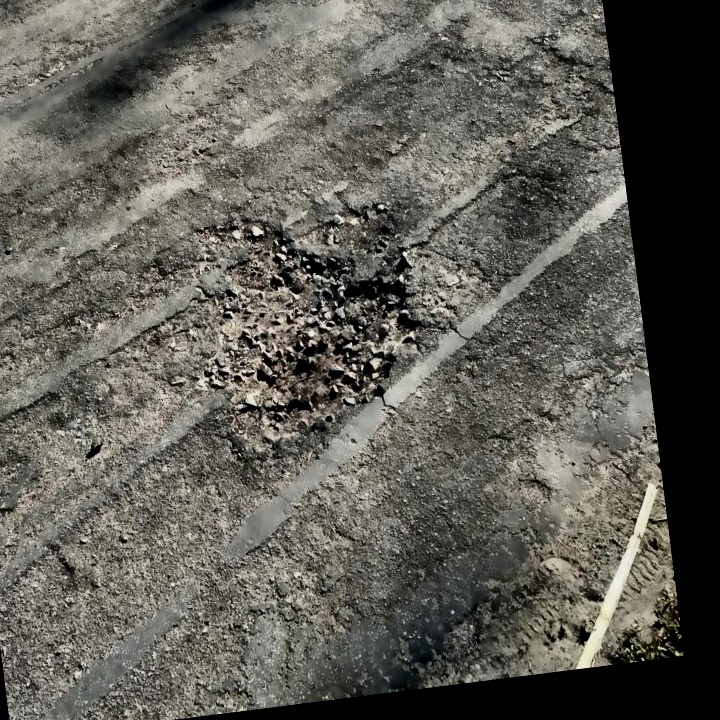pothole: (194, 200, 429, 448)
